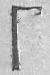R8: (5, 1, 45, 75)
